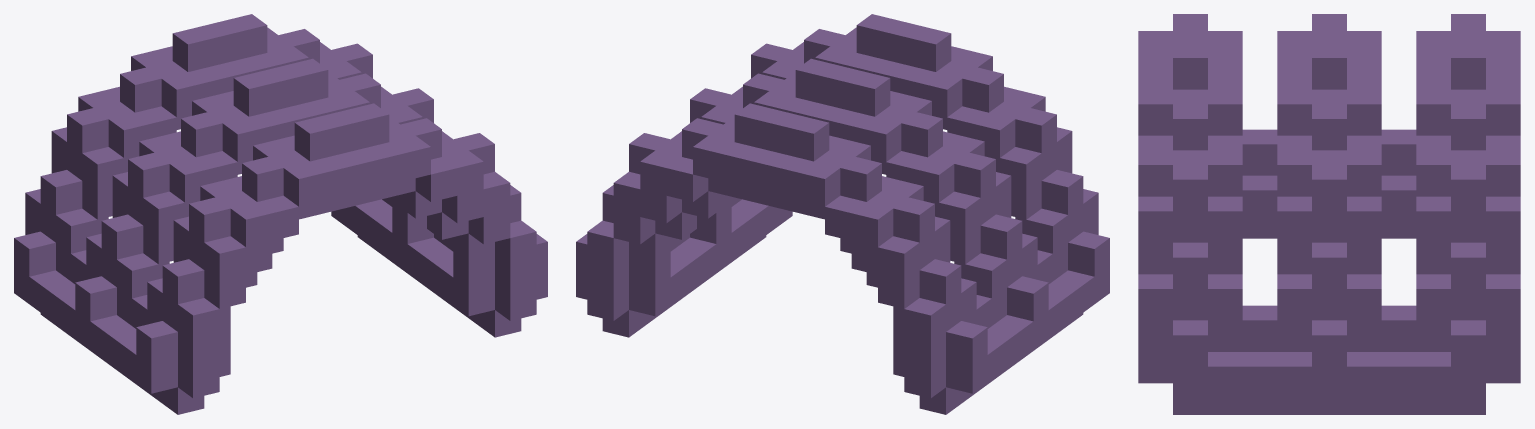
File: alien-biosphere-root-den-f11cdef5__22781.glb
3 views of the same model, side by side, from view 1: azimuth 30°, elevation 25°; view 2: azimuth 150°, elevation 25°; view 3: azimuth 270°, elevation 25° (orthographic). The views are drawn at different scales.
Parts seen in each view (by area): view 1: root-den_0; view 2: root-den_0; view 3: root-den_0.
Part boxes in pixels (x1,y1,x2,y2): root-den_0: (14,14,547,414); root-den_0: (576,14,1109,414); root-den_0: (1138,14,1520,414).
Size of the model in its own units: 3 by 1.8 by 2.2.
